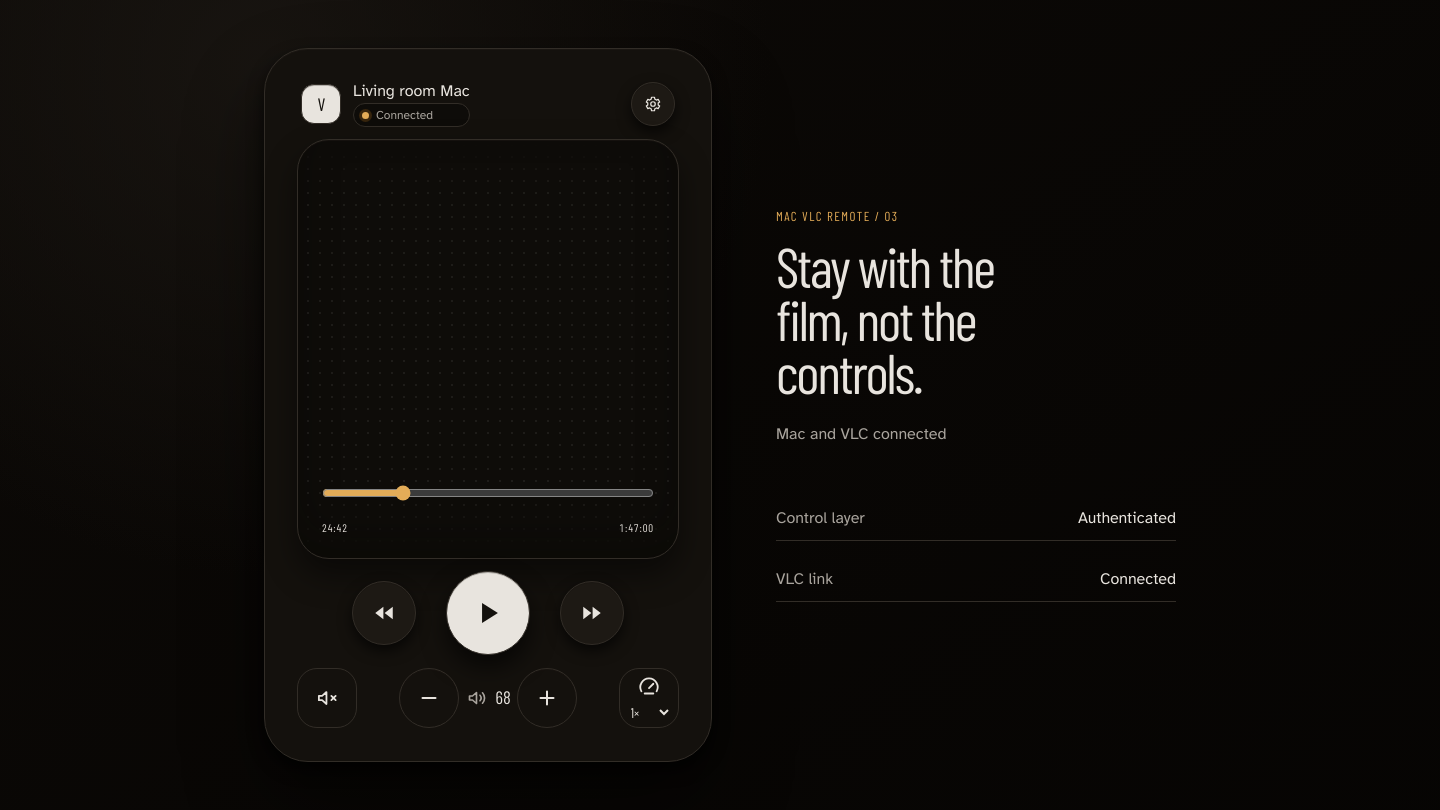
it: mobile remote › previews timeline movement and only seeks when the control is released
Set the slider named "Seek to 24:42" to "1800": (419,493) [322, 477, 654, 509]
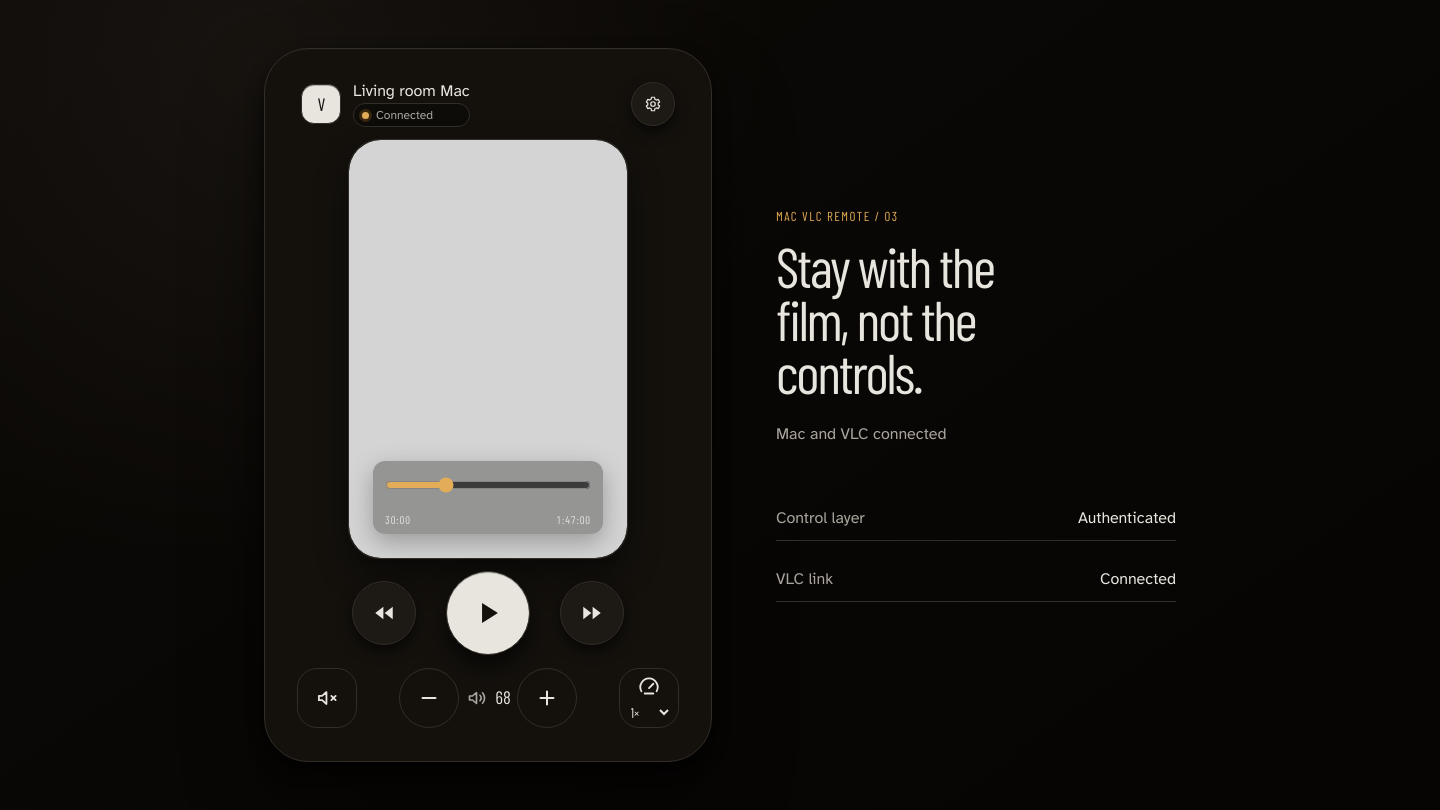
Expected: the text "30:00" is shown, [385, 513, 411, 526]
